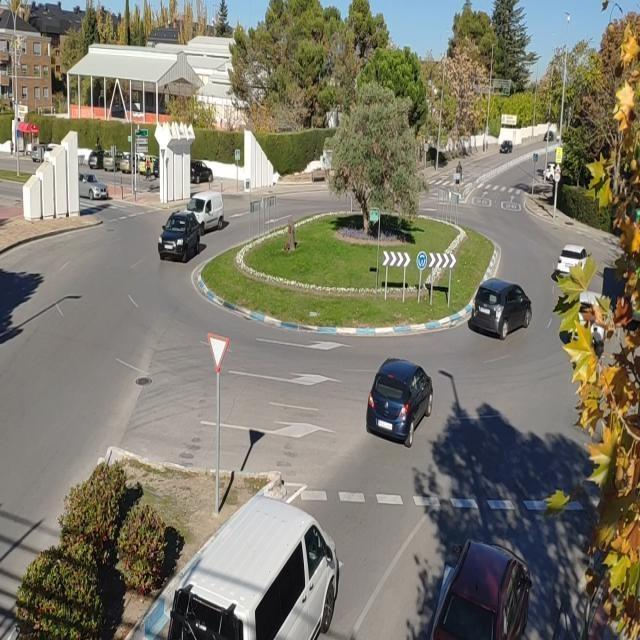Car: (432, 539, 530, 640), (366, 357, 433, 448), (469, 279, 532, 338), (574, 292, 611, 353), (158, 212, 203, 262), (554, 246, 588, 277), (78, 174, 109, 200), (102, 150, 128, 172), (190, 160, 213, 183), (137, 154, 158, 177), (118, 152, 139, 174), (543, 162, 561, 182), (88, 150, 105, 170), (500, 140, 512, 154), (544, 131, 554, 141)
Van: (170, 494, 339, 640), (185, 191, 224, 230)
